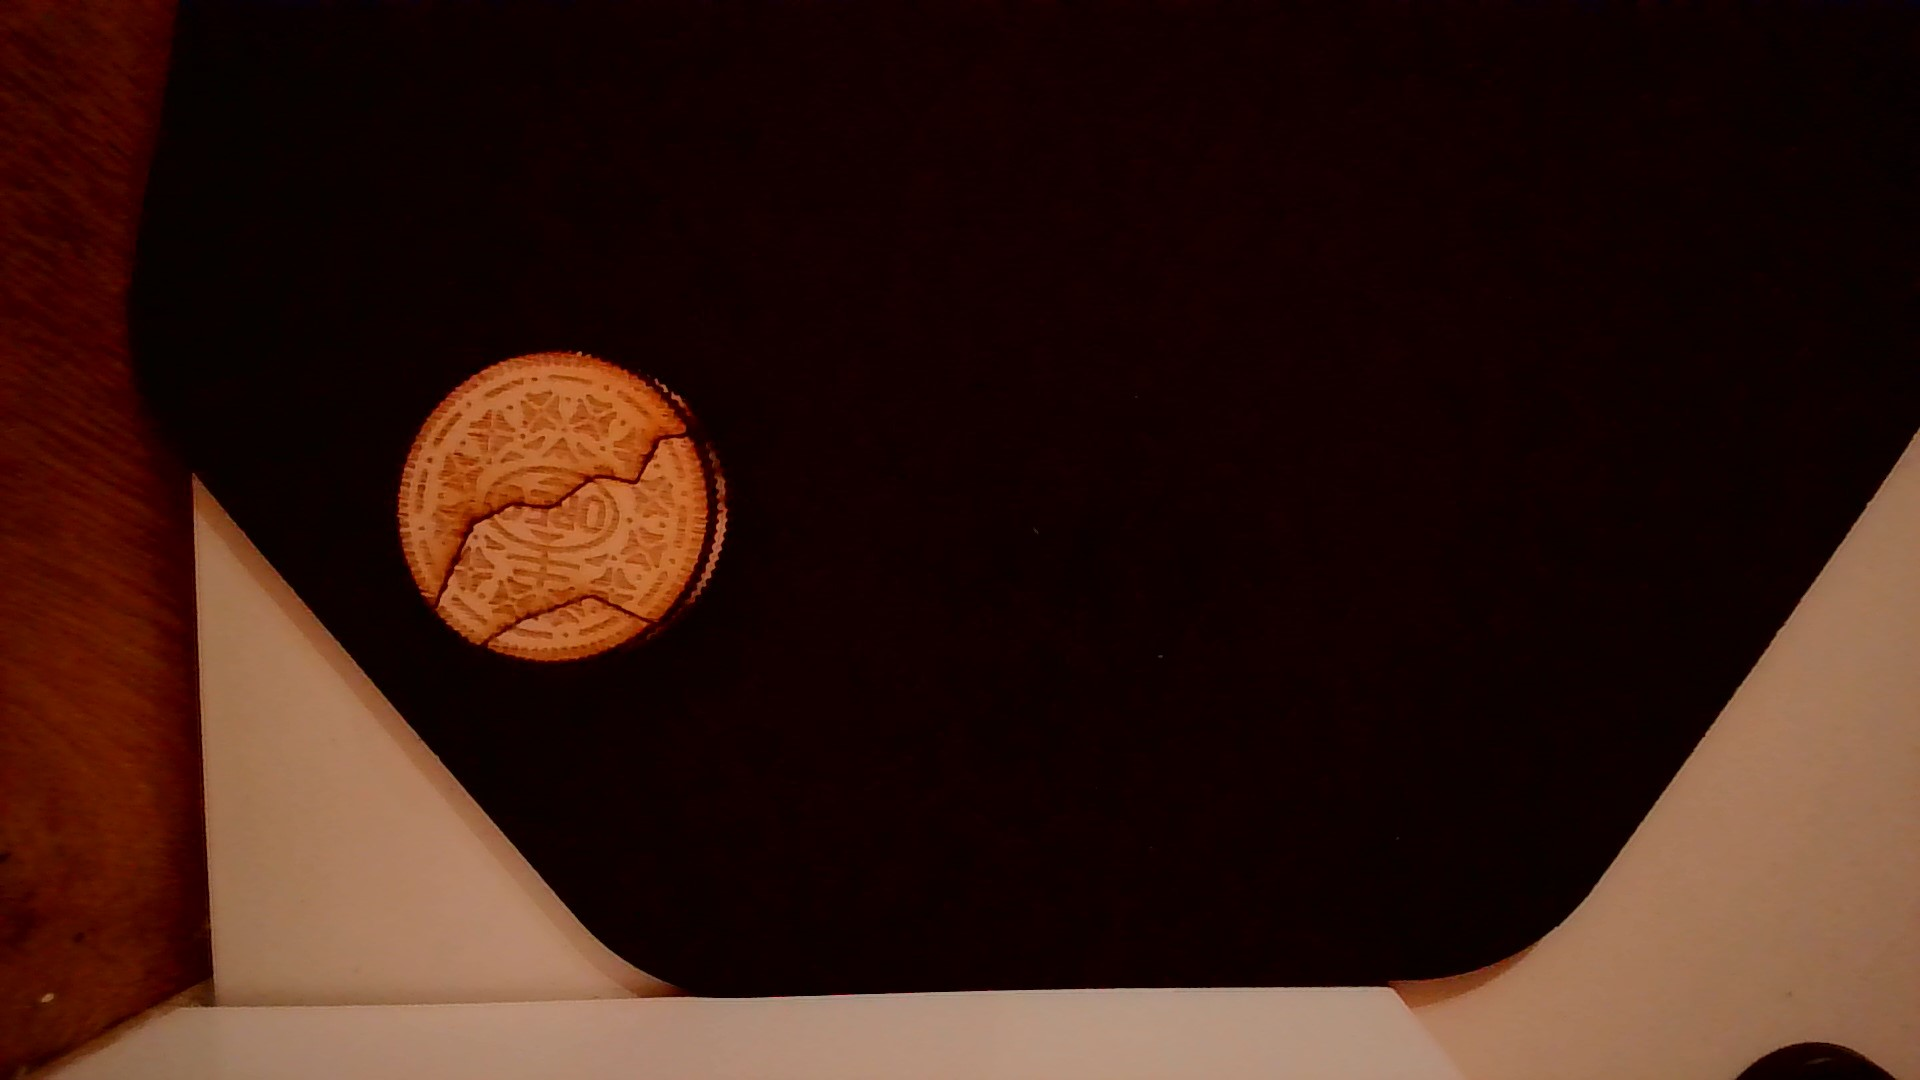Fissure: (425, 426, 702, 615), (477, 585, 659, 657)
Oréo: (386, 345, 733, 669)
